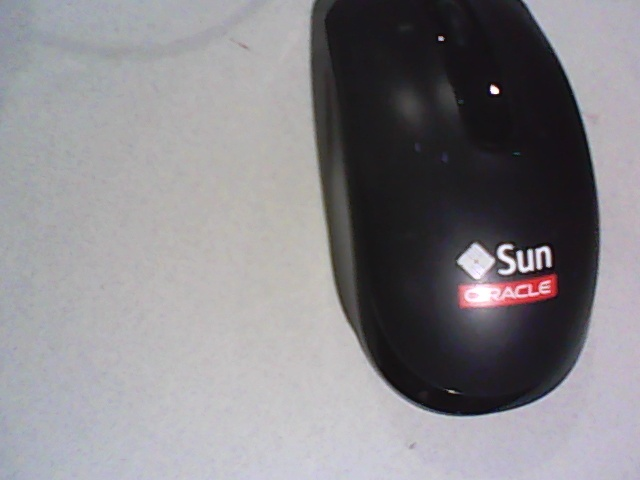mouse: (310, 1, 601, 415)
